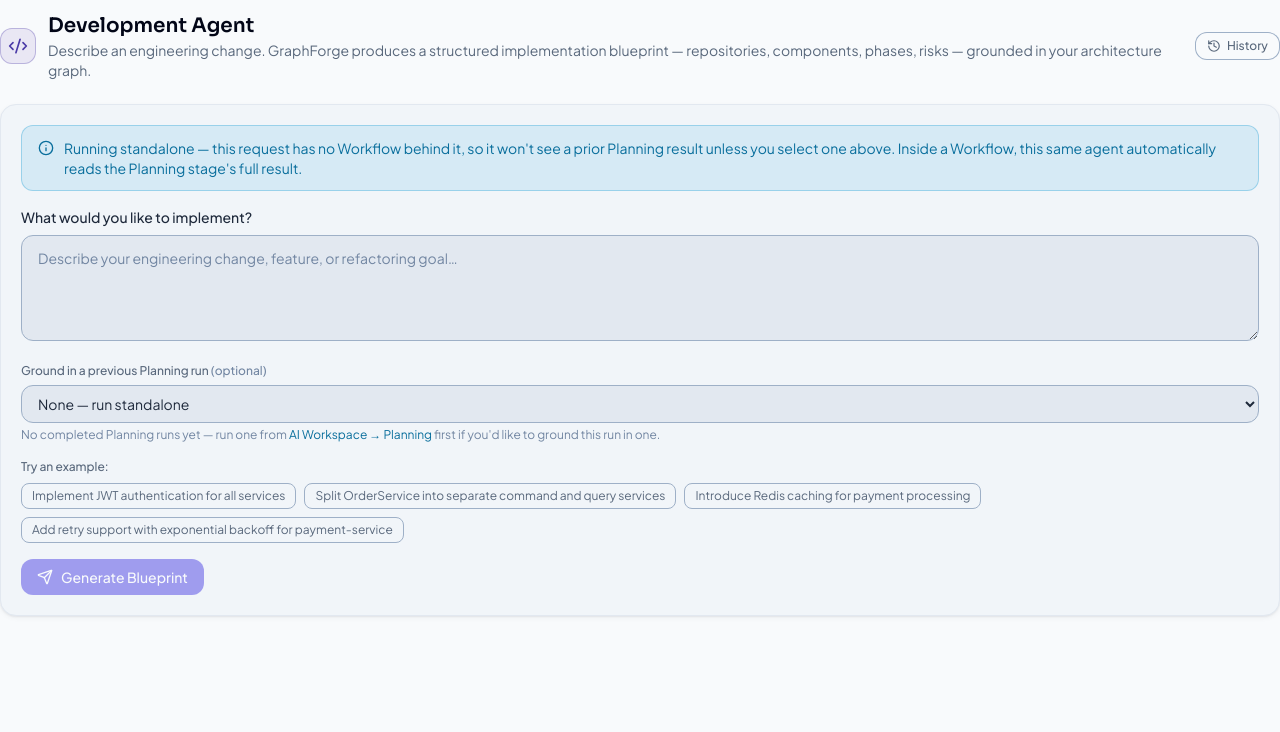
it: DevelopmentPage › fills textarea when example is clicked
This screenshot has width=1280, height=732.
What coordinates should you click on to do the following:
click the button "Implement JWT authentication for all services"
I would click on:
 (159, 496)
Its box is [21,483,296,509].
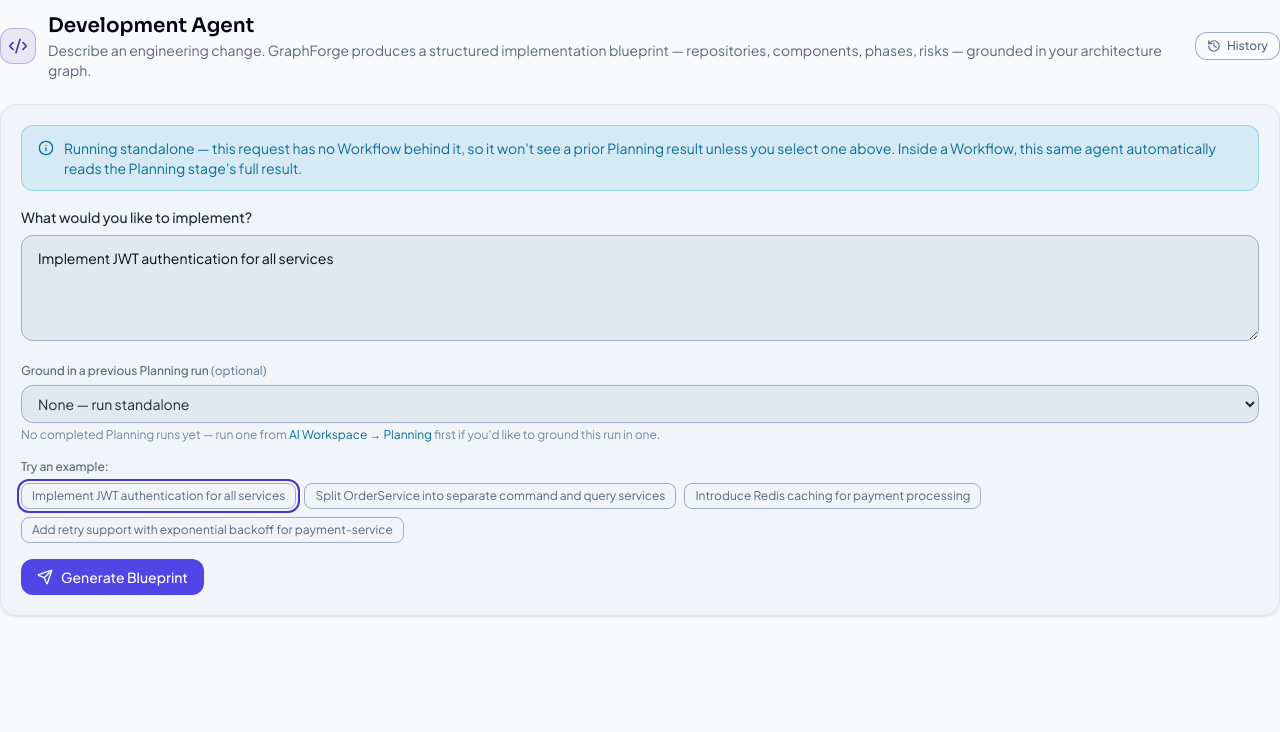
Expected: the text box labelled "What would you like to implement?" holds "Implement JWT authentication for all services", [21,235,1259,341]
